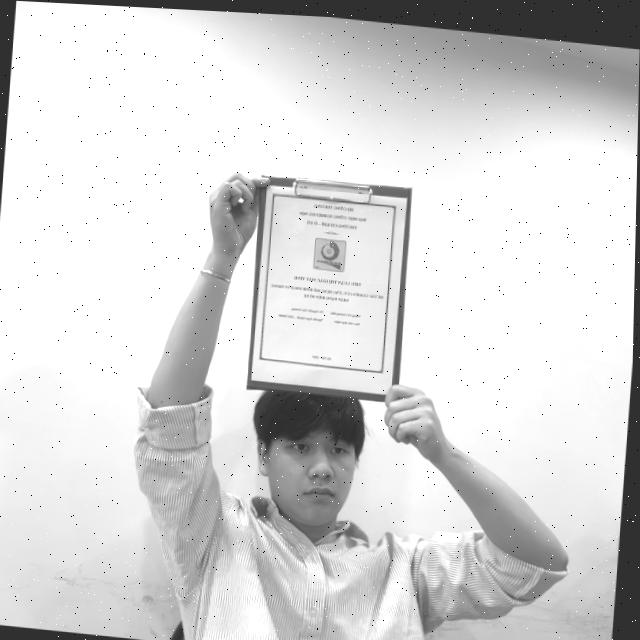document: (252, 185, 407, 395)
face: (257, 391, 365, 531)
